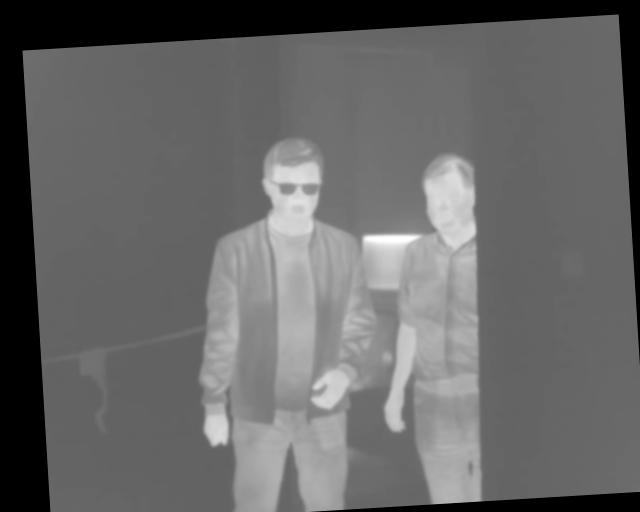face: (259, 135, 327, 224), (421, 150, 478, 235)
